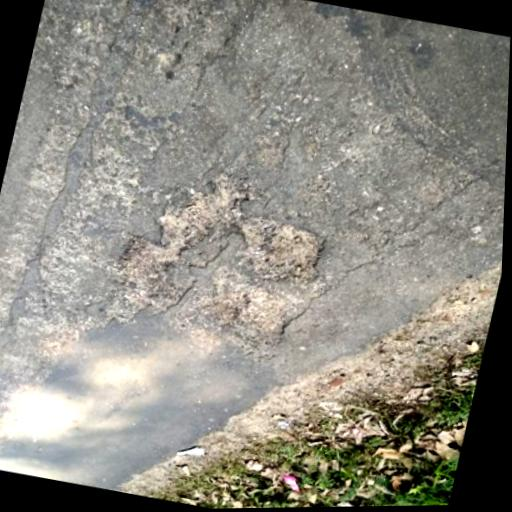pothole: (94, 153, 353, 367)
